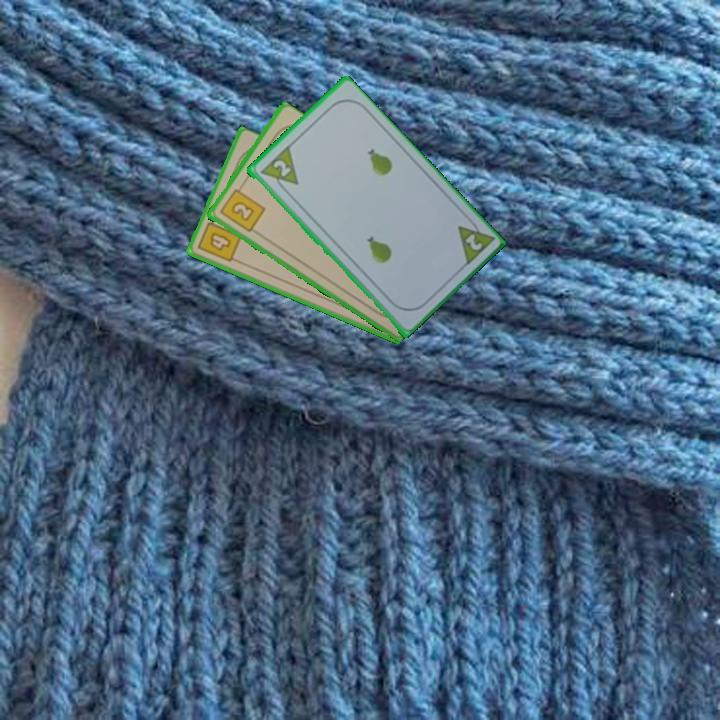2b: (216, 182, 267, 235)
2p: (269, 156, 293, 180), (461, 230, 485, 254)
4b: (194, 213, 244, 265)
